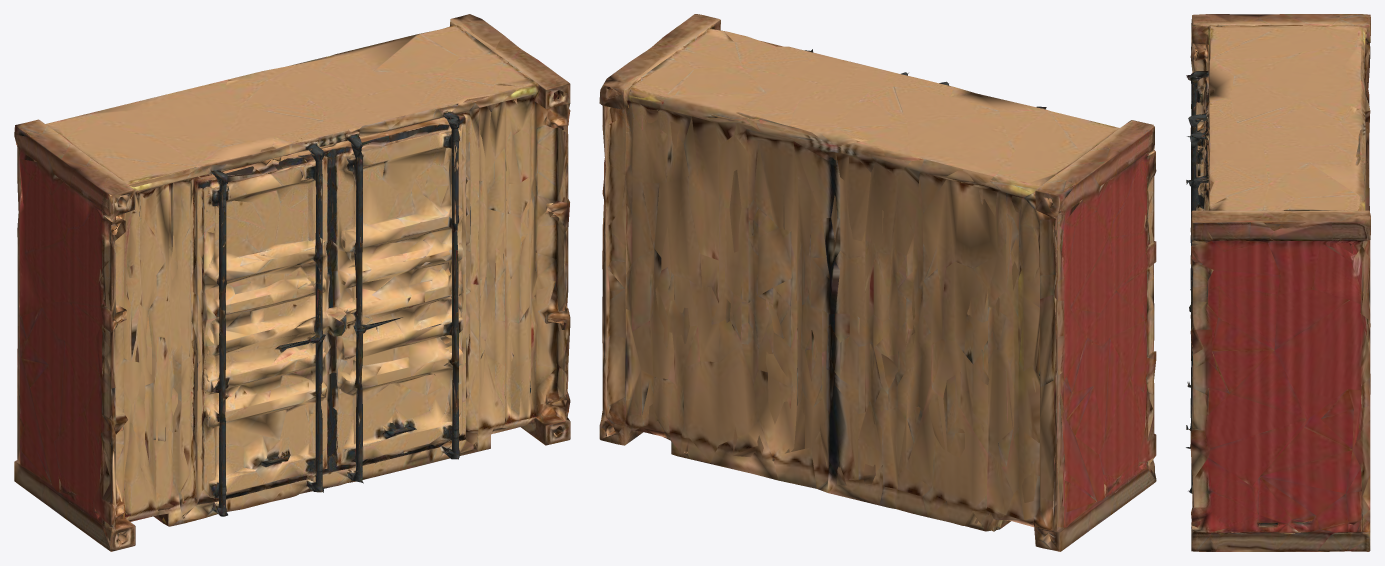
The model's file is konteyner.glb.
The picture shows the model from 3 angles, left to right: view 1: azimuth 30°, elevation 25°; view 2: azimuth 150°, elevation 25°; view 3: azimuth 270°, elevation 25°; orthographic projection. The views are drawn at different scales.
Visible parts, largest first — view 1: kok; view 2: kok; view 3: kok.
Boxes of the visible parts, x1=… form: kok: x1=14, y1=14, x2=570, y2=551; kok: x1=599, y1=14, x2=1156, y2=551; kok: x1=1186, y1=14, x2=1370, y2=551.
Bounding box in the file's own units: 6.1 × 4.52 × 2.3.
1 material, 1 textured.
